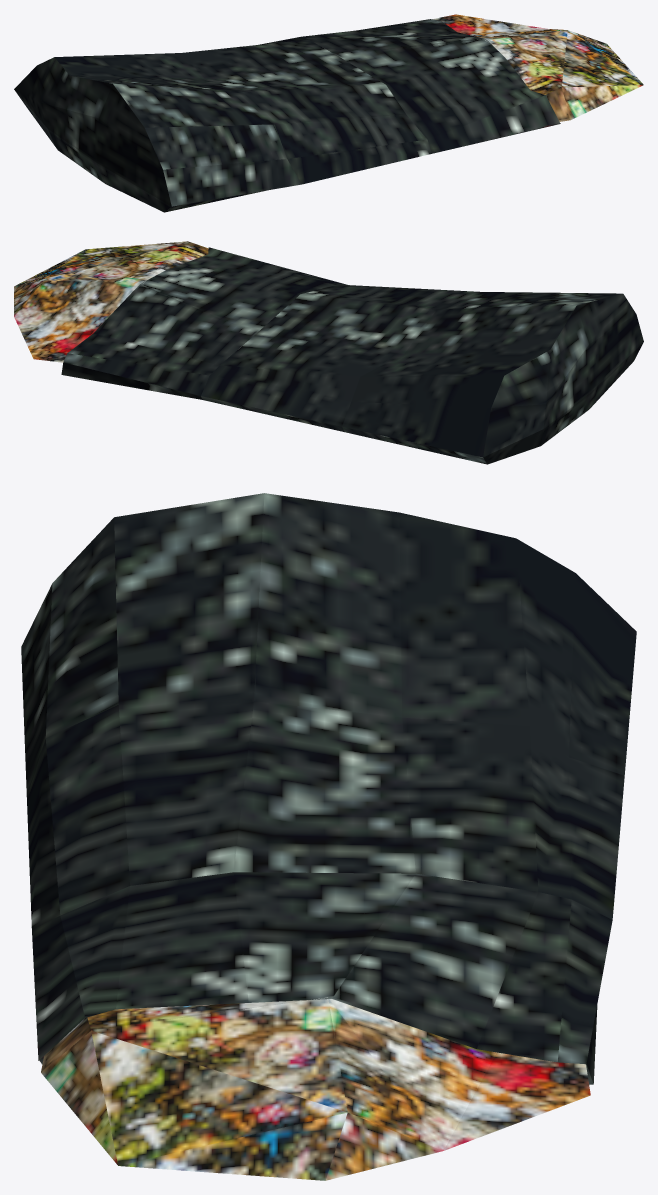
File: bolsasbasura4.fbx
3 renders of one model, top to bottom at view 1: azimuth 30°, elevation 25°; view 2: azimuth 150°, elevation 25°; view 3: azimuth 270°, elevation 25°, orthographic. The views are drawn at different scales.
Parts seen in each view (by area): view 1: trashbag_3; view 2: trashbag_3; view 3: trashbag_3.
Boxes of the visible parts, x1,y1,x2,y2 form: trashbag_3: [14, 14, 643, 212]; trashbag_3: [14, 241, 643, 464]; trashbag_3: [21, 493, 636, 1180].
Bounding box in the file's own units: 173 × 31.75 × 86.94.
Materials: 2 (2 with a texture image).
